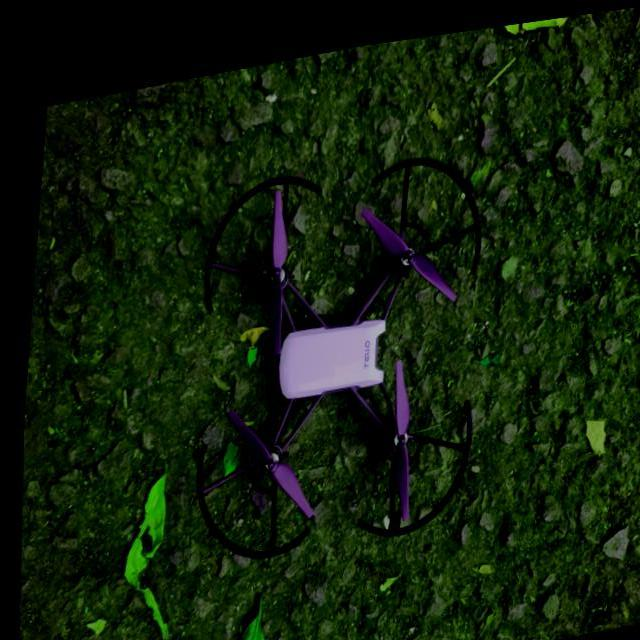drone: (181, 139, 480, 560)
